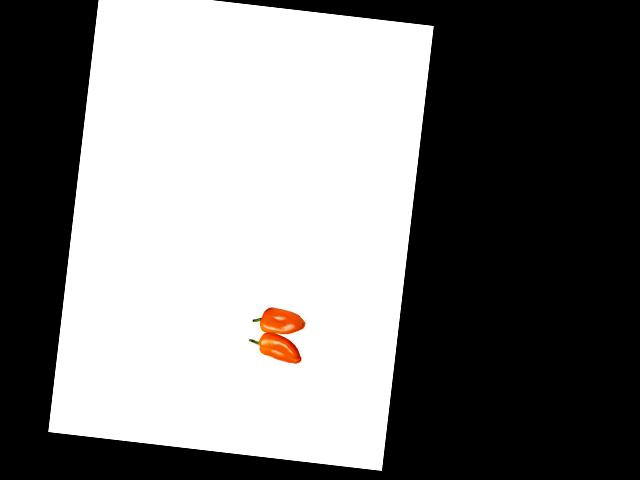bell_pepper: (250, 299, 318, 339)
